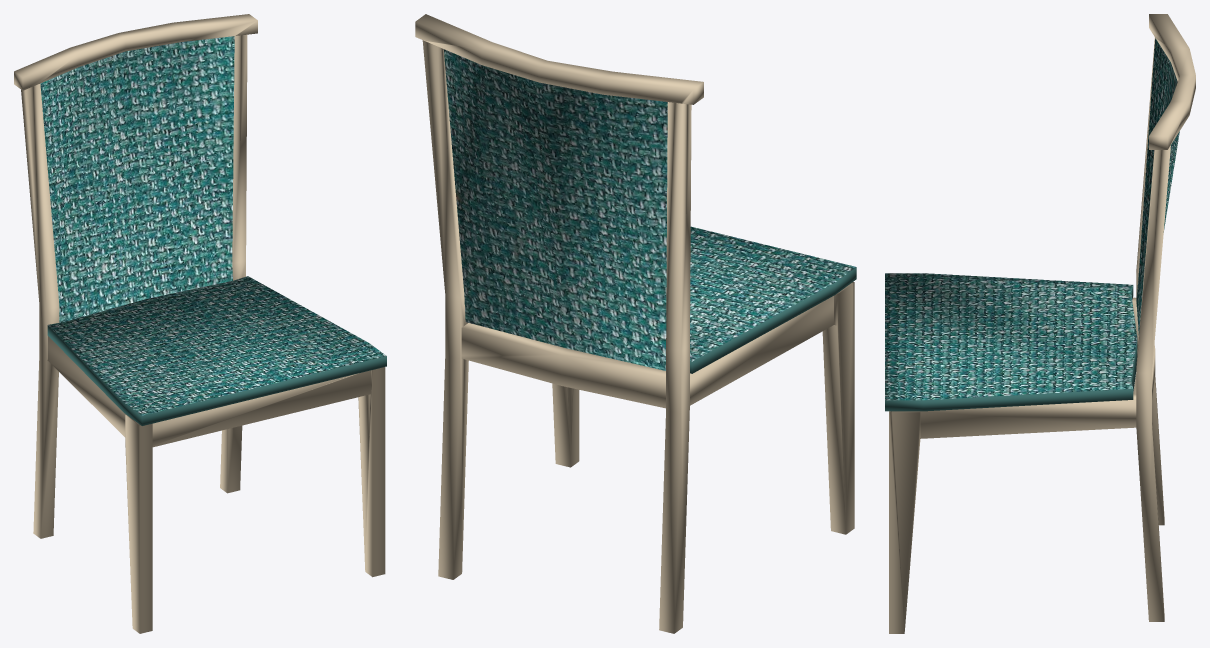
Rendered from chair1.glb.
The picture shows the model from 3 angles, left to right: view 1: azimuth 30°, elevation 25°; view 2: azimuth 150°, elevation 25°; view 3: azimuth 270°, elevation 25°; orthographic projection. The views are drawn at different scales.
Parts seen in each view (by area): view 1: chair_office_y; view 2: chair_office_y; view 3: chair_office_y.
Part boxes in pixels (x1,y1,x2,y2): chair_office_y: (14, 14, 386, 633); chair_office_y: (415, 14, 856, 633); chair_office_y: (885, 14, 1195, 633).
Bounding box in the file's own units: 1.02 × 1.85 × 1.05.
2 materials, 1 textured.
